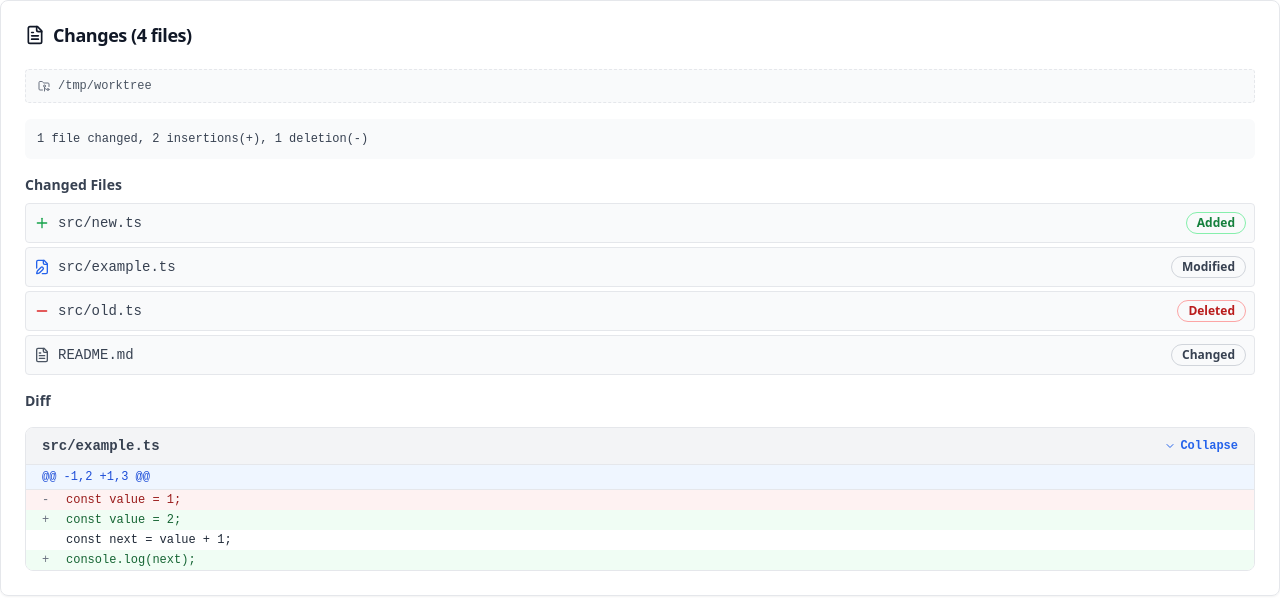
DiffViewer › renders diff details, badges, and toggles sections
The width and height of the screenshot is (1280, 613).
Expected: the heading "Changes (4 files)" is shown, [25,23,192,47]
Expected: the text "/tmp/worktree" is shown, [58,78,152,94]
# Collapse a file from the changed files list
Click the button "src/example.ts Modified": (117, 267) [25,247,1255,287]
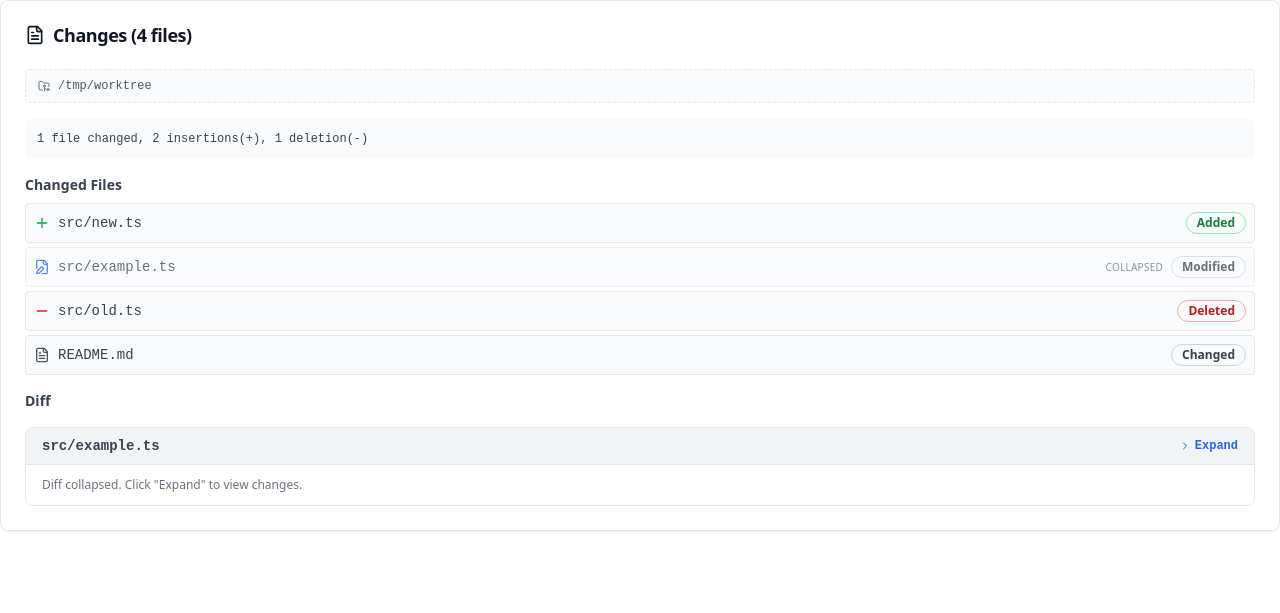
Now the text "Diff collapsed. Click \"Expand\" to view changes." is shown, box [26,465,1254,505]
# Expand the file again via diff section toggle
Click the button "Expand": (1208, 446) [1179,438,1238,454]
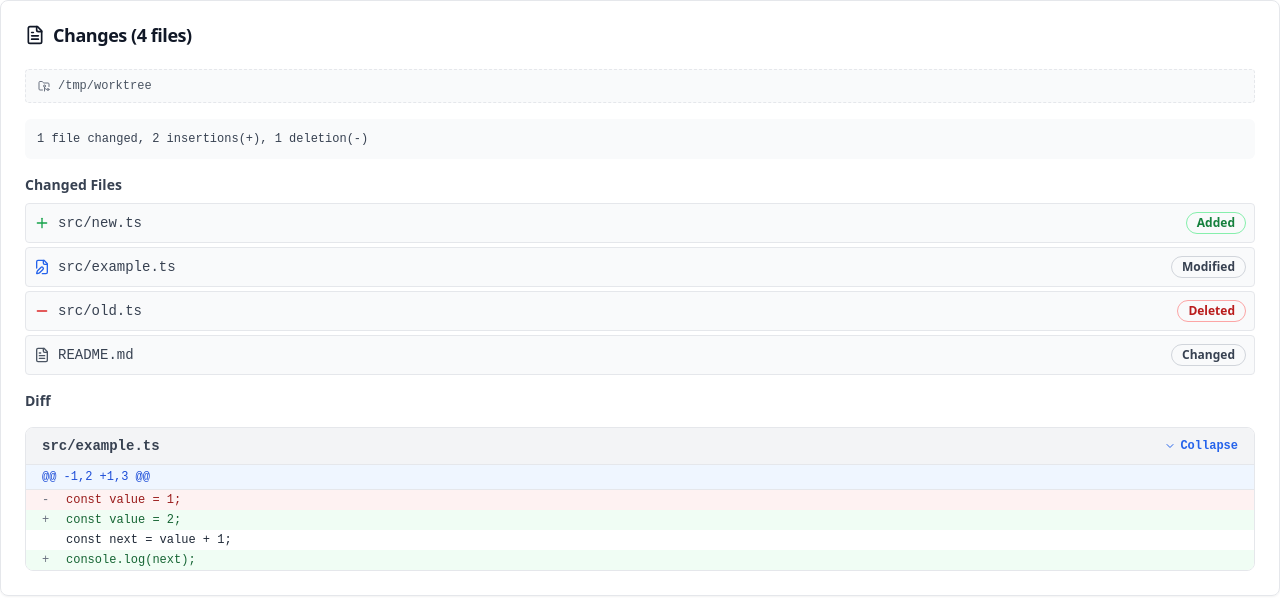
Now the button "Collapse" is shown, box [1164,438,1238,454]
Now the text "const value = 2;" is shown, box [66,513,181,527]
Now the text "const next = value + 1;" is shown, box [66,533,232,547]
